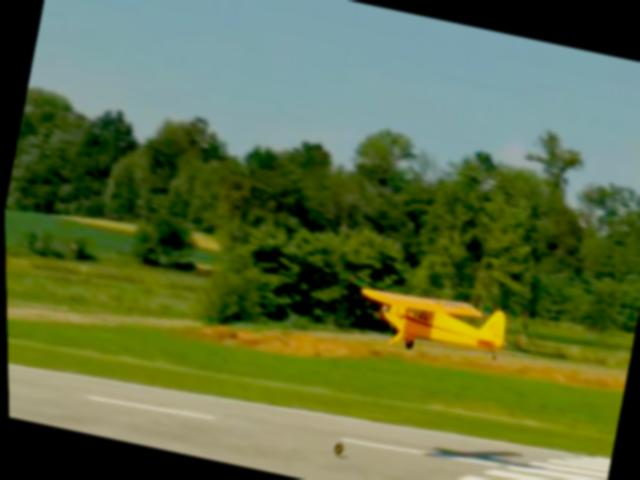uav: (346, 274, 513, 368)
